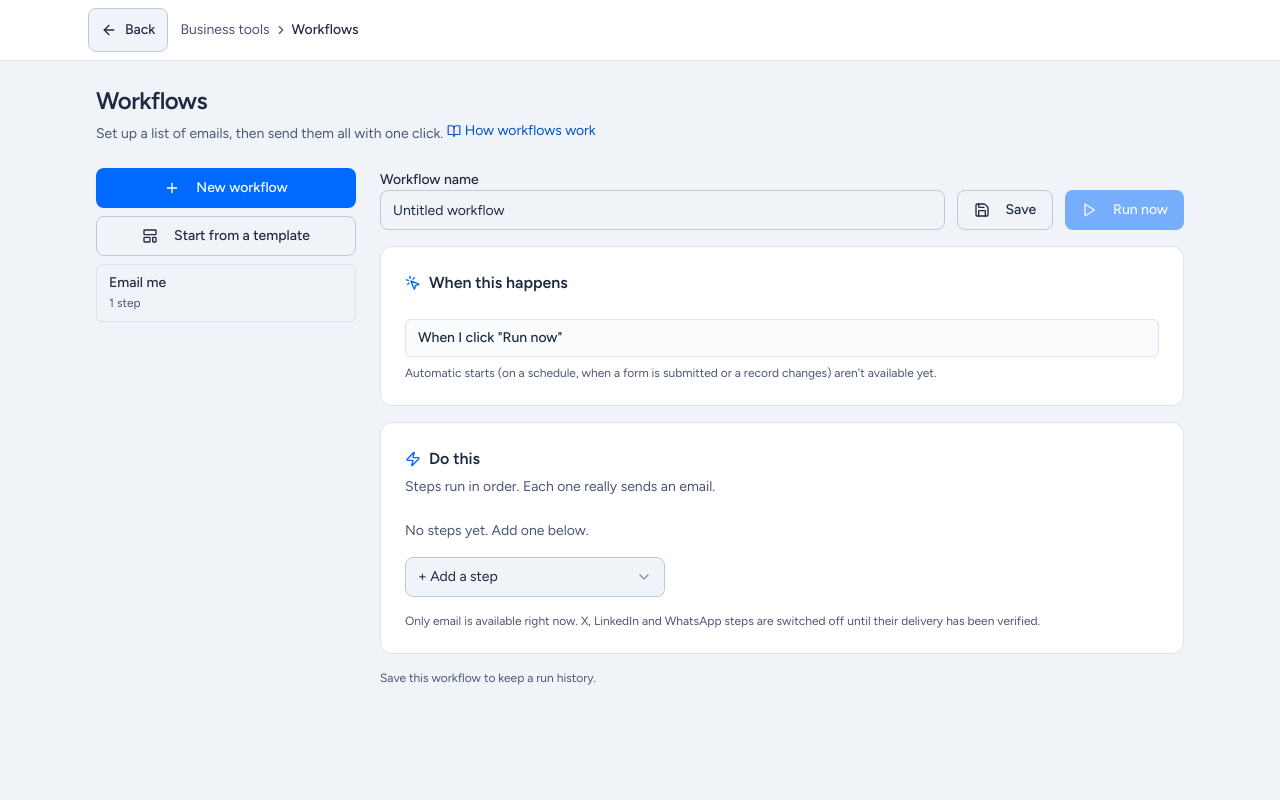
Test: Workflow screen with a failing email step › shows "Delivery status unknown" after a server timeout (504)
Click the button "Email me 1 step" at (138, 282), box [96,264,356,322]
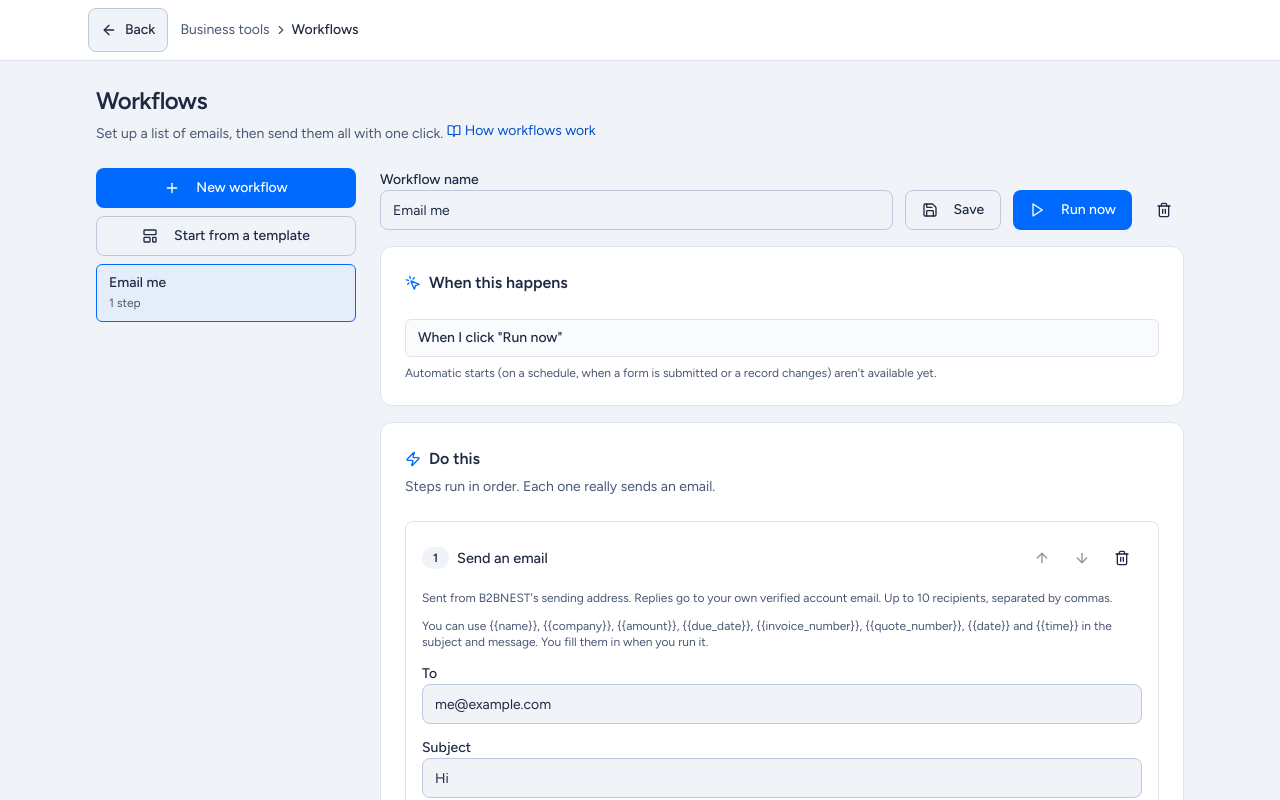
Check: the button "Run now" is enabled
Click the button "Run now" at (1073, 210), box [1013,190,1132,230]
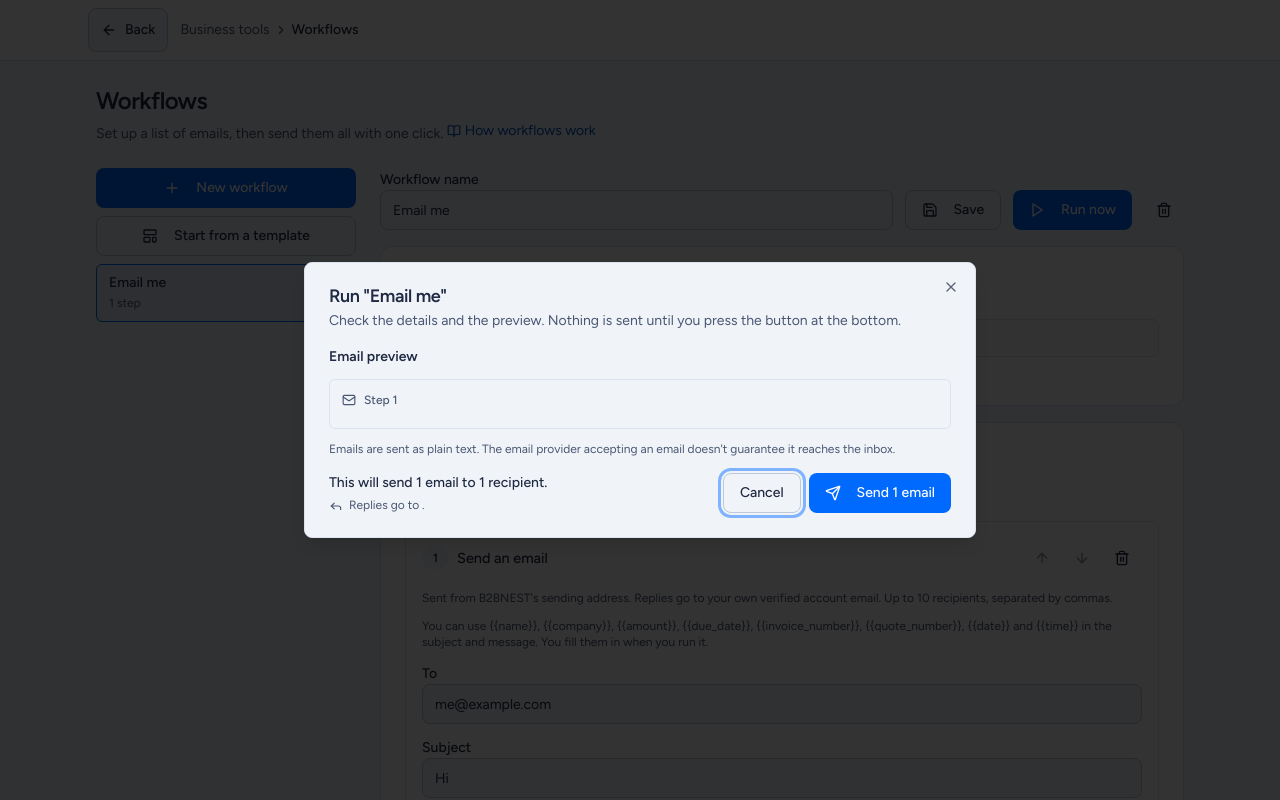
Click the button "Send 1 email" at (880, 493), box [809,473,951,513]
(page scrolled)
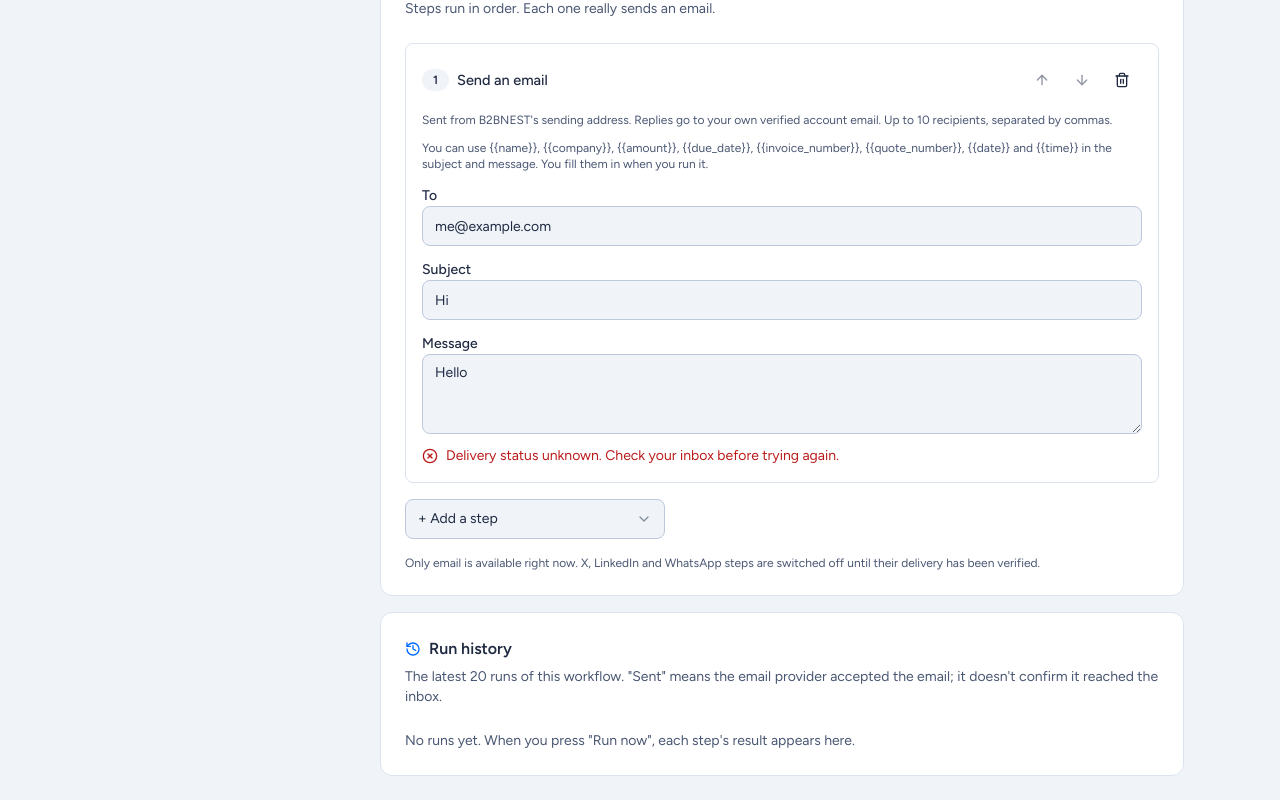
Check: the message shows "Delivery status unknown", box [446,447,839,464]
